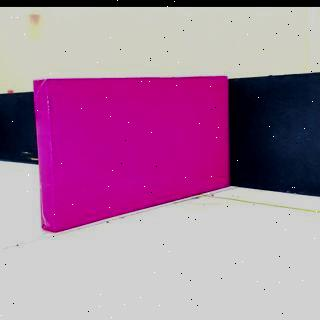xparking: (35, 78, 228, 206)
